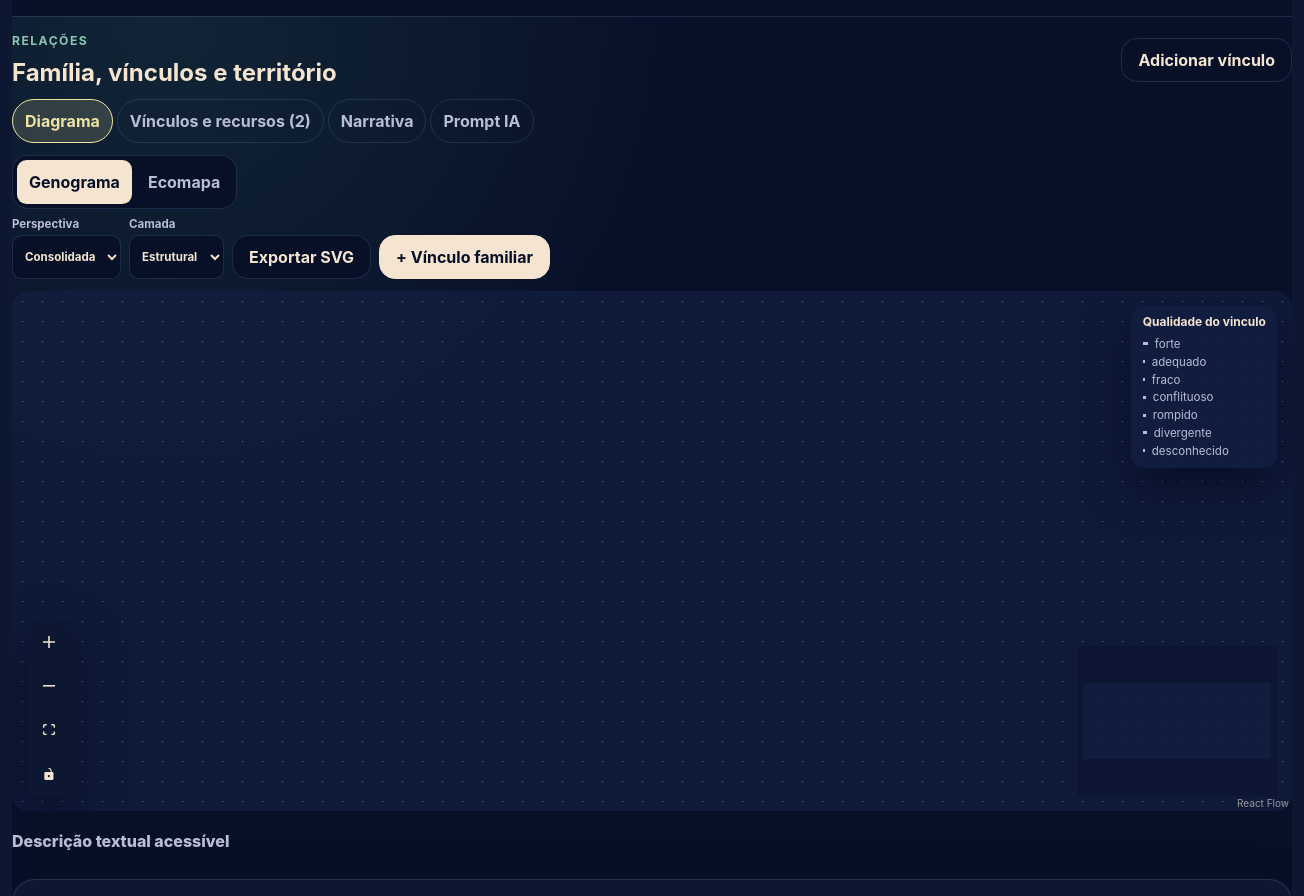
painel de relacoes com camada React Flow › troca para ecomapa e diferencia familia, pessoa e recurso
Click the button "Ecomapa". click: [184, 182]
box: [136, 160, 232, 204]
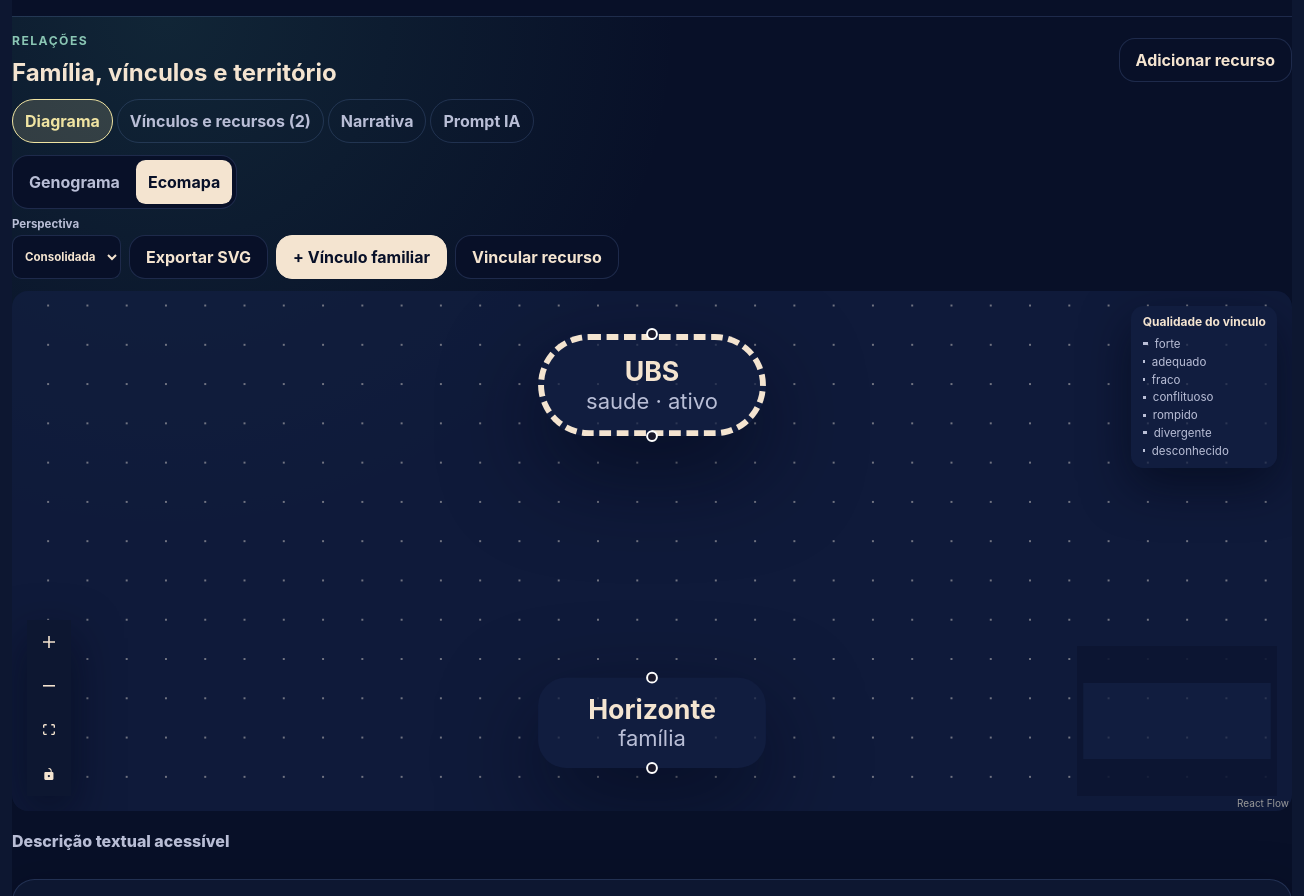
expect the text "UBS" is shown: met, box [625, 355, 679, 387]
expect the text "Horizonte" is shown: met, box [588, 693, 716, 724]
expect the number of elements with test id "flow-node-resource" is 1: met, box [538, 334, 766, 436]
